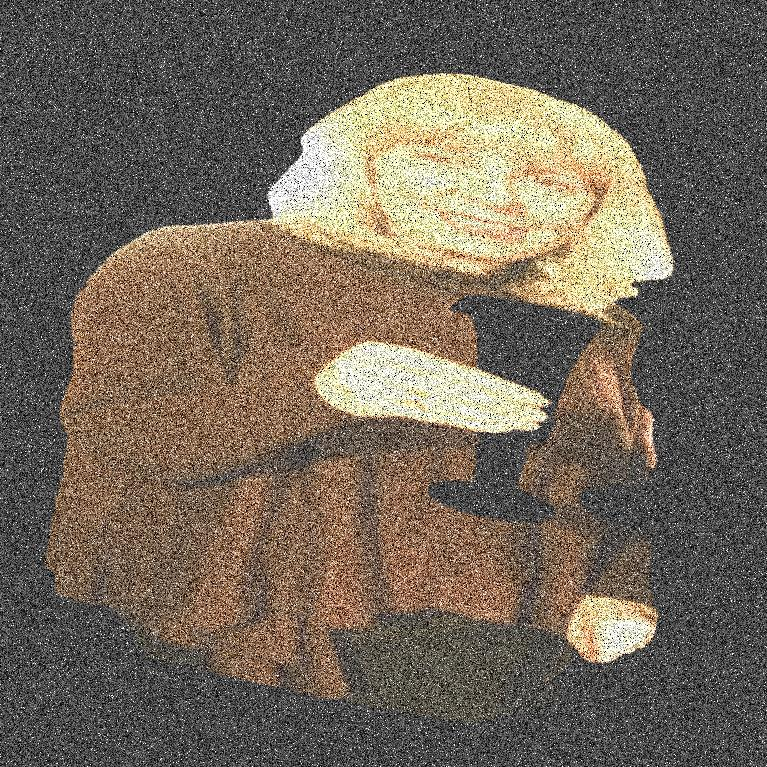Pessoa: (207, 0, 615, 766)
